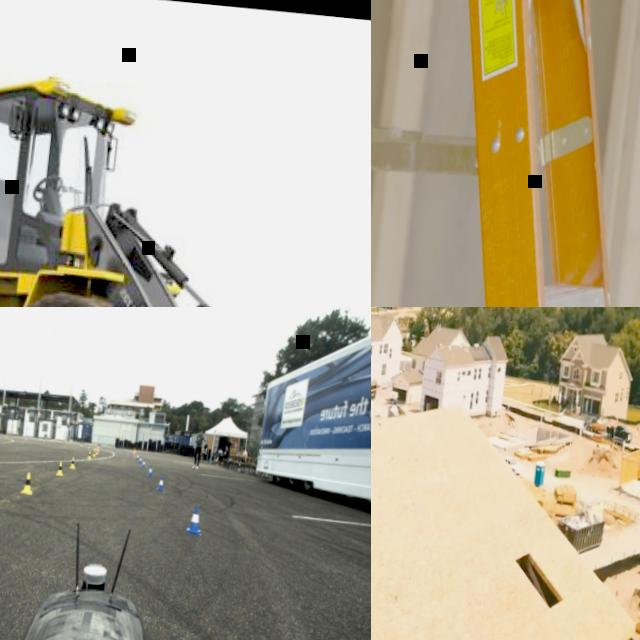NO-Hardhat: (199, 428, 203, 432), (242, 447, 245, 450), (219, 447, 221, 451), (228, 438, 230, 441), (216, 451, 218, 454)
NO-Safety Vest: (195, 435, 202, 447), (226, 442, 231, 451), (242, 452, 247, 459), (224, 450, 229, 457)
Person: (191, 428, 205, 471), (236, 446, 248, 471), (216, 445, 229, 468), (226, 438, 233, 451), (212, 451, 219, 463), (202, 448, 206, 463), (218, 448, 223, 455)
Safety Cone: (185, 505, 205, 536), (20, 471, 34, 495), (156, 475, 166, 491), (56, 461, 64, 476), (69, 457, 76, 470), (147, 466, 154, 477), (141, 459, 146, 468), (132, 448, 136, 457), (87, 451, 91, 460), (138, 456, 142, 464), (135, 453, 139, 460), (92, 450, 96, 457), (97, 445, 100, 454), (94, 449, 98, 455), (131, 450, 133, 456), (123, 448, 126, 452), (80, 442, 83, 446), (93, 445, 95, 450), (44, 437, 46, 442), (25, 436, 27, 441), (6, 433, 8, 438), (201, 445, 203, 450), (130, 450, 132, 454), (113, 446, 115, 450), (103, 445, 105, 449), (88, 444, 90, 448), (66, 440, 68, 444), (203, 449, 205, 453), (95, 445, 96, 450)
vehicle: (0, 54, 371, 307), (0, 493, 368, 640), (605, 422, 633, 445)
